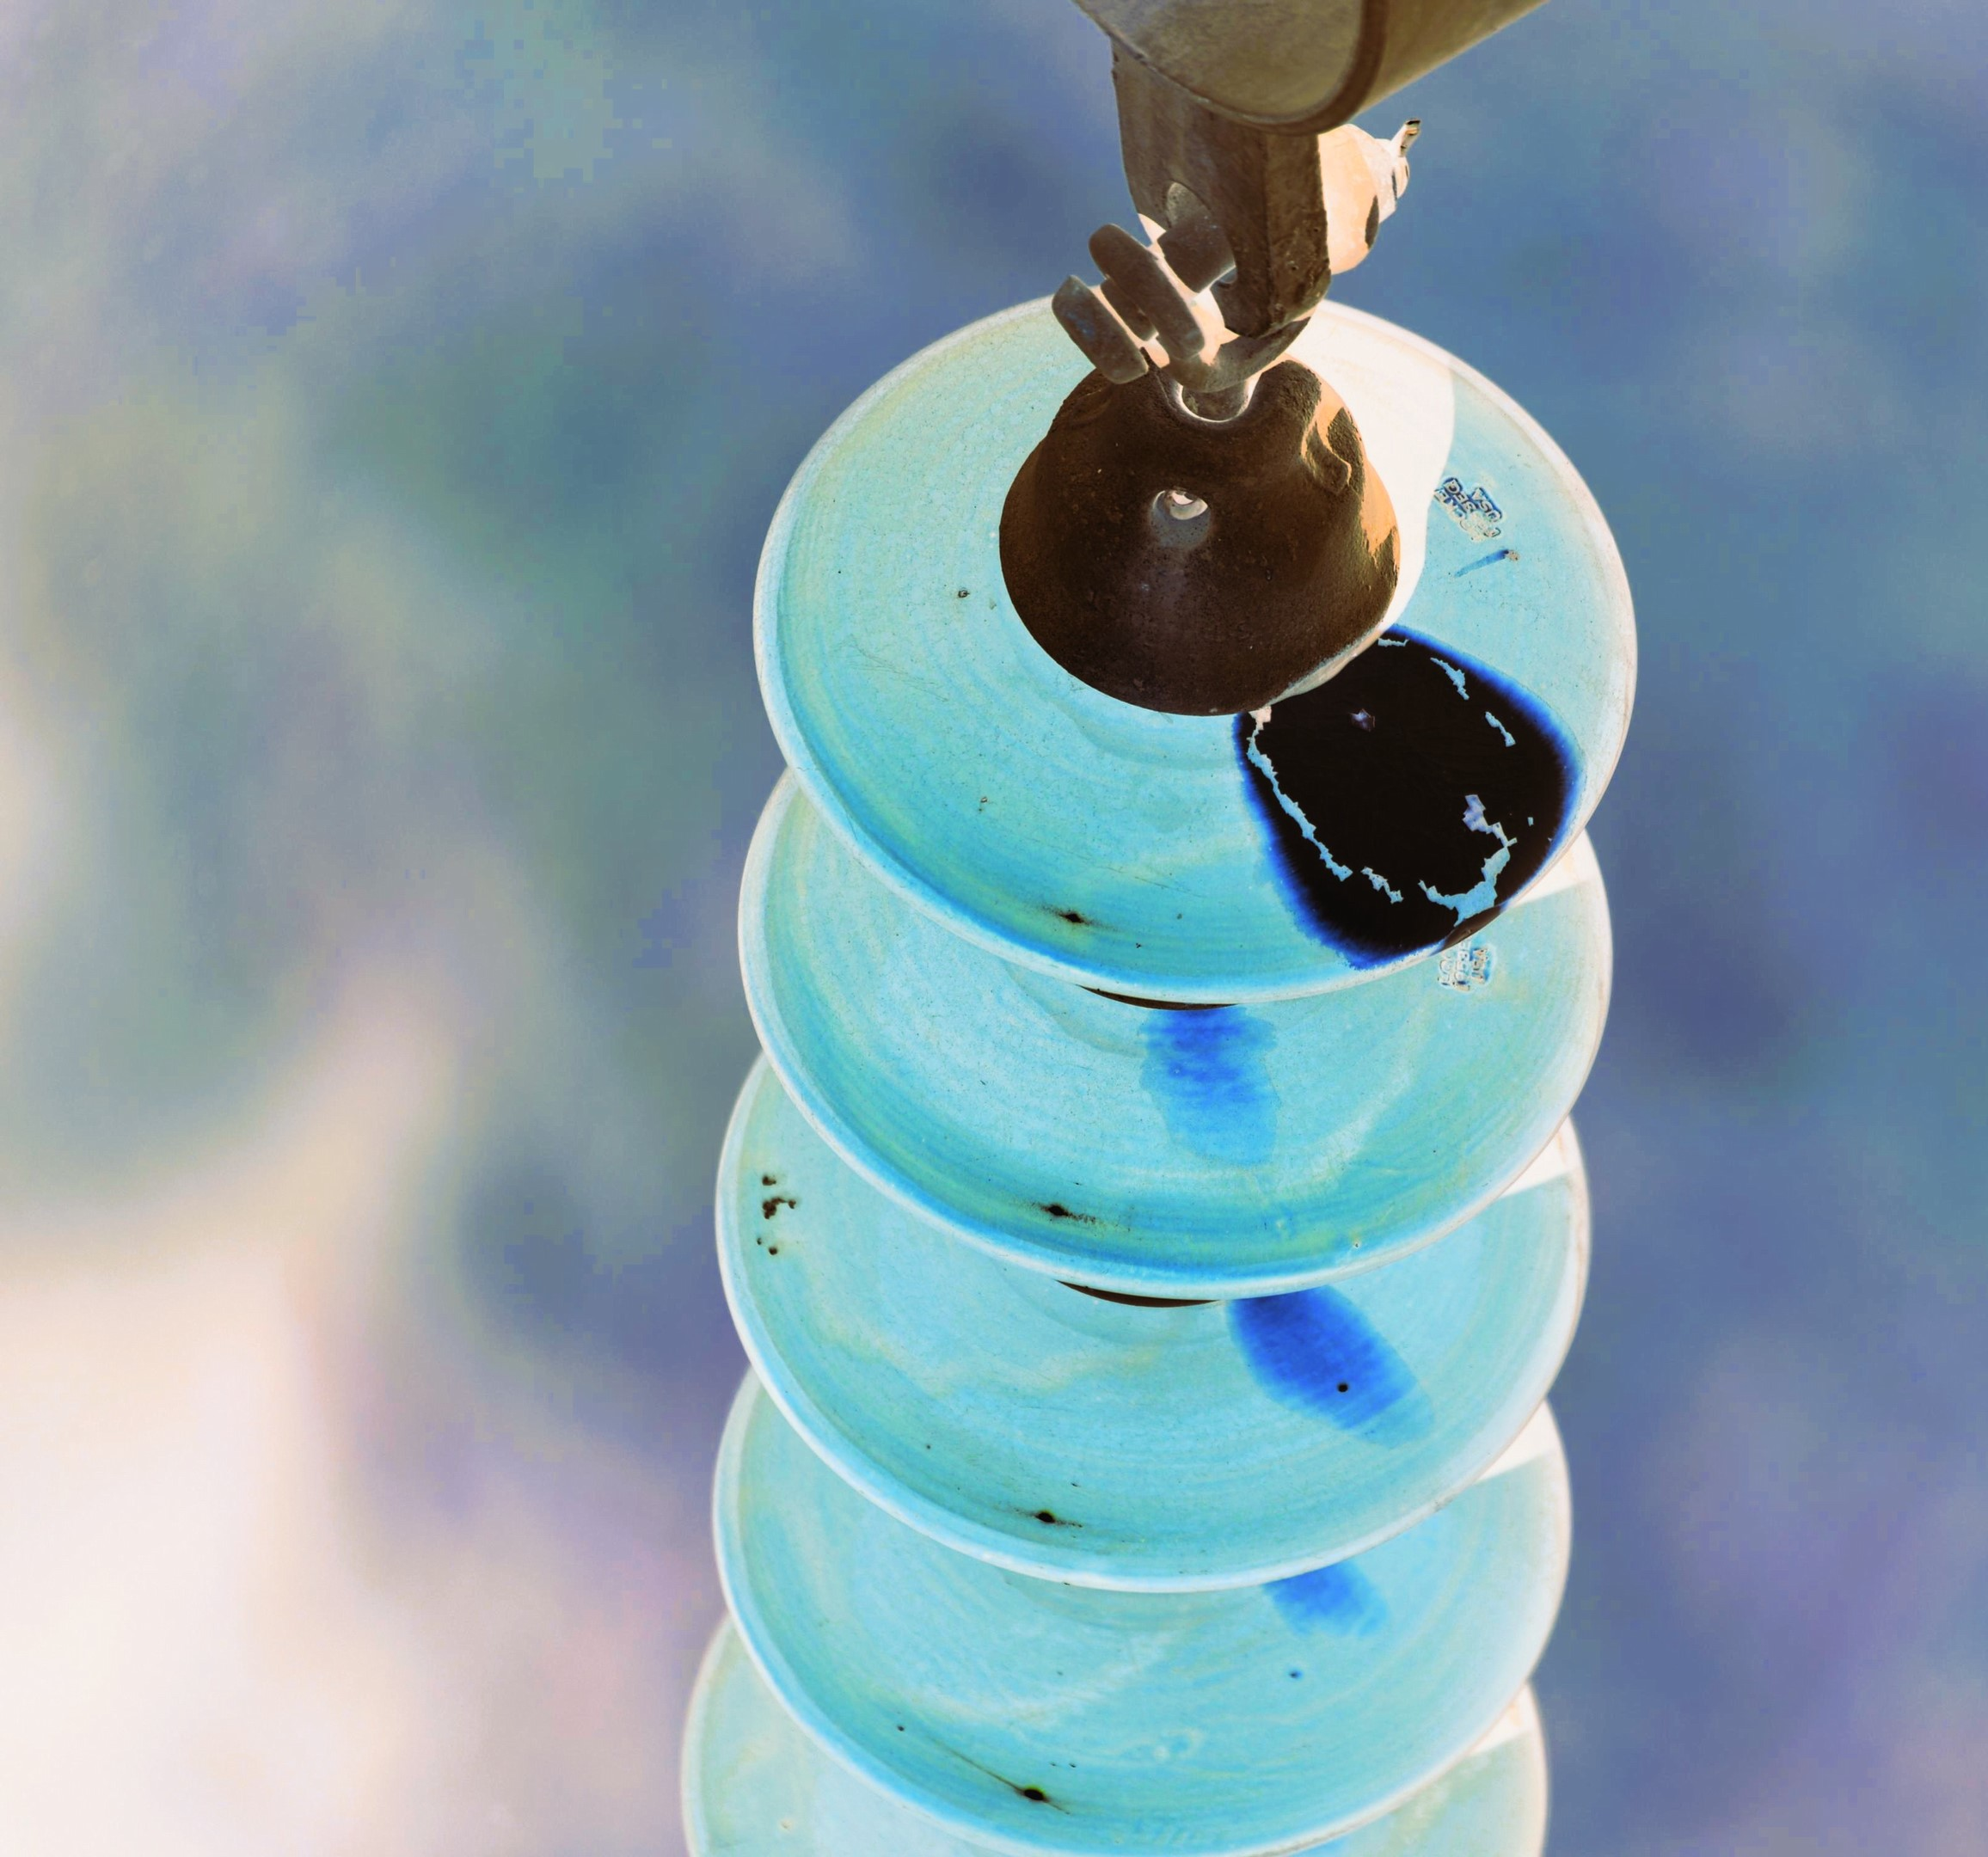Insulator flashover: (740, 257, 1681, 1011)
